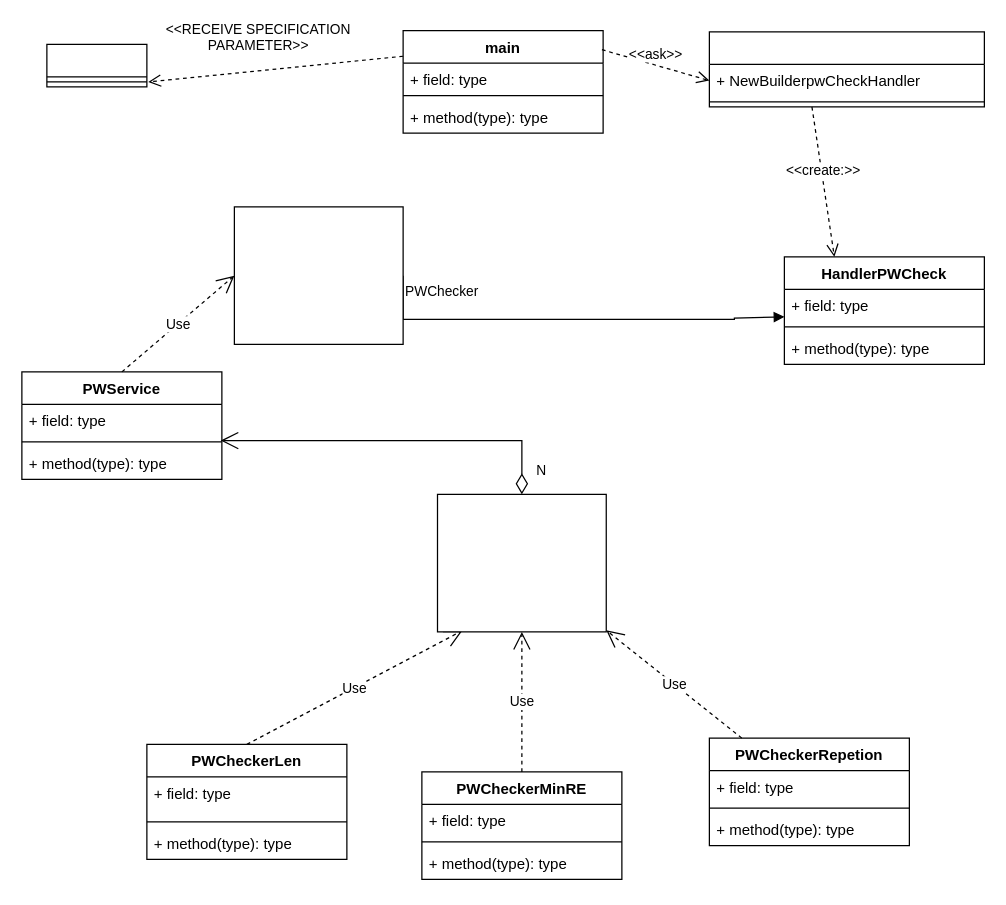
The diagram is 1006 pixels wide and 905 high, and some of its shapes have lost their labels. Each missing label, with the centre of its shape:
<<Interface>> PWChecker + AddMatch: (x=521, y=562)
<<Interface>> PWService + CheckPW: (x=318, y=275)
EnvVar: (x=96, y=65)
